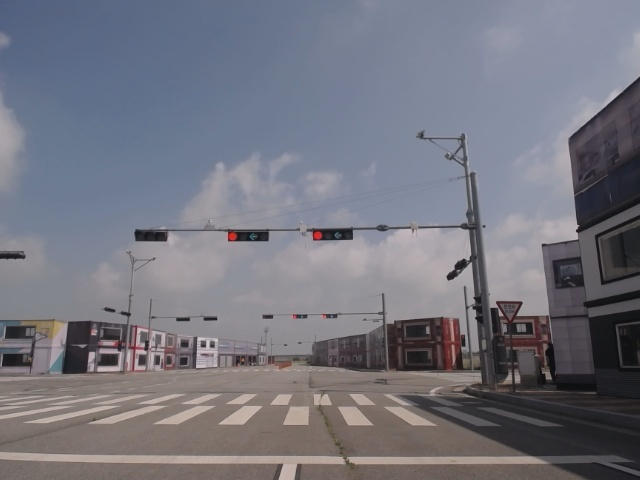left_green_4: (312, 229, 354, 241), (227, 230, 269, 241)
